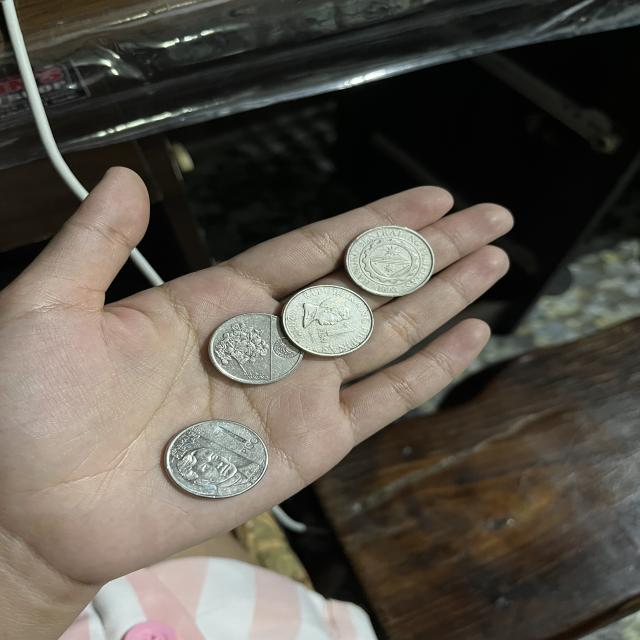1_New_Back: (210, 318, 268, 380)
1_New_Front: (194, 423, 261, 462)
1_Old_Back: (343, 227, 432, 296)
1_Old_Front: (302, 317, 357, 343)
